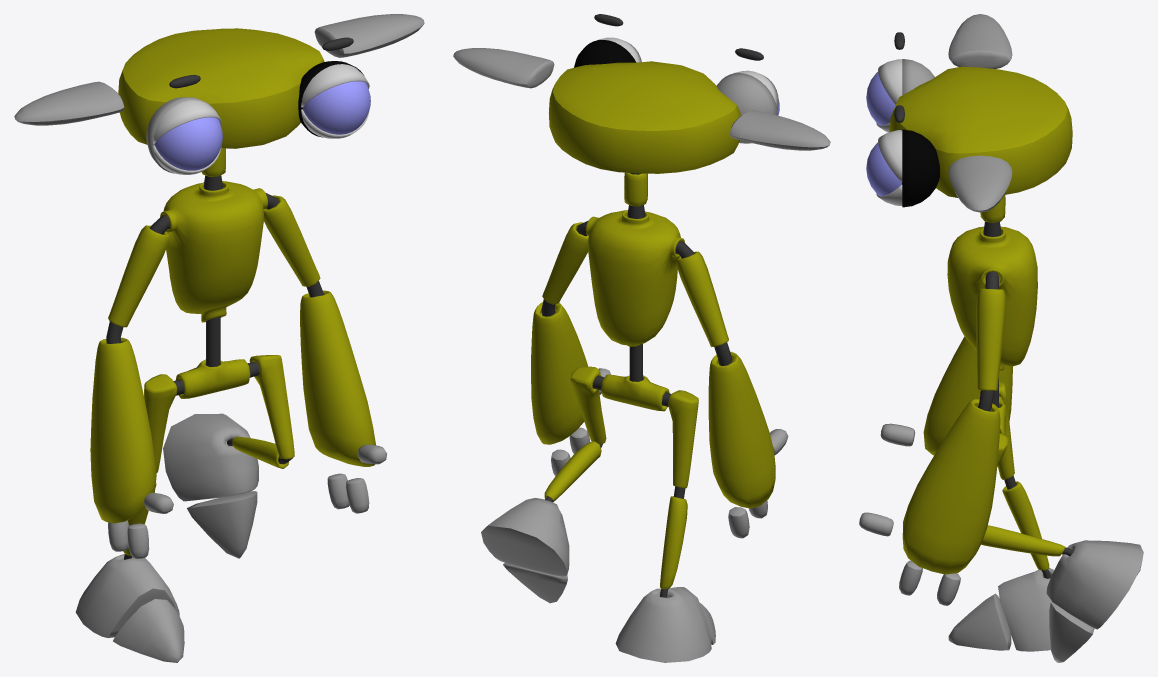
Rendered from walk7.obj.
3 views of the same model, side by side, from view 1: azimuth 30°, elevation 25°; view 2: azimuth 150°, elevation 25°; view 3: azimuth 270°, elevation 25° (orthographic). The views are drawn at different scales.
Parts seen in each view (by area): view 1: Mesh polySurface50, Mesh polySurface41, Mesh polySurface37, Mesh polySurface18, Mesh polySurface10, Mesh polySurface48, Mesh polySurface26, Mesh polySurface24, Mesh polySurface47, Mesh polySurface38, Mesh polySurface6, Mesh polySurface22 (+15 smaller); view 2: Mesh polySurface41, Mesh polySurface50, Mesh polySurface48, Mesh polySurface37, Mesh polySurface18, Mesh polySurface26, Mesh polySurface9, Mesh polySurface10, Mesh polySurface38, Mesh polySurface47, Mesh polySurface28, Mesh polySurface44 (+9 smaller); view 3: Mesh polySurface18, Mesh polySurface50, Mesh polySurface41, Mesh polySurface10, Mesh polySurface48, Mesh polySurface37, Mesh polySurface26, Mesh polySurface44, Mesh polySurface51, Mesh polySurface4, Mesh polySurface24, Mesh polySurface47 (+14 smaller).
Part boxes in pixels (bbox=[...]): Mesh polySurface50: bbox=[122, 28, 322, 103]; Mesh polySurface41: bbox=[160, 180, 267, 322]; Mesh polySurface37: bbox=[90, 337, 156, 523]; Mesh polySurface18: bbox=[300, 290, 375, 466]; Mesh polySurface10: bbox=[163, 413, 258, 501]; Mesh polySurface48: bbox=[118, 55, 324, 148]; Mesh polySurface26: bbox=[75, 554, 179, 637]; Mesh polySurface24: bbox=[113, 599, 184, 662]; Mesh polySurface47: bbox=[14, 81, 124, 121]; Mesh polySurface38: bbox=[108, 225, 169, 327]; Mesh polySurface6: bbox=[302, 81, 370, 134]; Mesh polySurface22: bbox=[154, 117, 222, 170]; Mesh polySurface41: bbox=[585, 210, 684, 346]; Mesh polySurface50: bbox=[553, 61, 736, 130]; Mesh polySurface48: bbox=[549, 85, 740, 173]; Mesh polySurface37: bbox=[708, 351, 775, 508]; Mesh polySurface18: bbox=[531, 302, 587, 444]; Mesh polySurface26: bbox=[615, 587, 711, 662]; Mesh polySurface9: bbox=[481, 525, 566, 576]; Mesh polySurface10: bbox=[482, 498, 569, 574]; Mesh polySurface38: bbox=[676, 251, 728, 346]; Mesh polySurface47: bbox=[729, 110, 830, 147]; Mesh polySurface28: bbox=[668, 390, 698, 488]; Mesh polySurface44: bbox=[453, 48, 552, 84]; Mesh polySurface18: bbox=[902, 399, 1000, 574]; Mesh polySurface50: bbox=[894, 66, 1067, 153]; Mesh polySurface41: bbox=[947, 226, 1037, 370]; Mesh polySurface10: bbox=[1046, 540, 1143, 629]; Mesh polySurface48: bbox=[889, 102, 1072, 197]; Mesh polySurface37: bbox=[923, 336, 1012, 455]; Mesh polySurface26: bbox=[998, 568, 1094, 651]; Mesh polySurface44: bbox=[948, 155, 1012, 210]; Mesh polySurface51: bbox=[976, 288, 1005, 390]; Mesh polySurface4: bbox=[902, 129, 939, 207]; Mesh polySurface24: bbox=[948, 595, 1008, 650]; Mesh polySurface47: bbox=[948, 14, 1012, 60].
Bounding box in the file's own units: 10.05 × 14.32 × 6.2.
